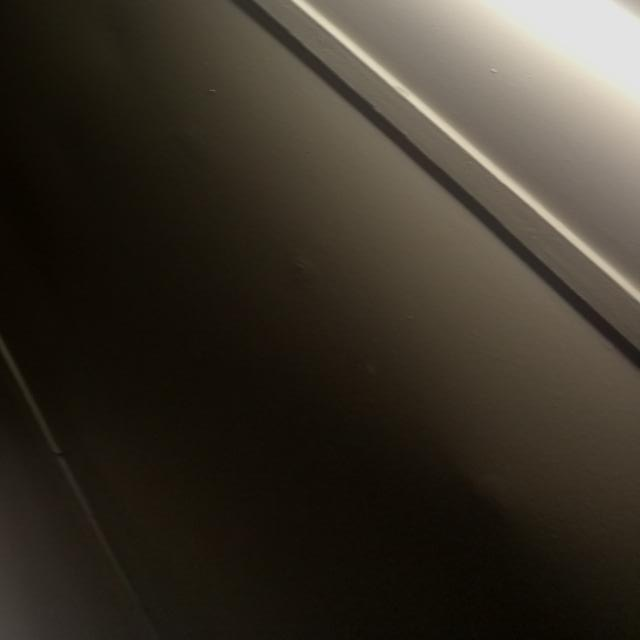fluorescent tube: (57, 0, 640, 154)
